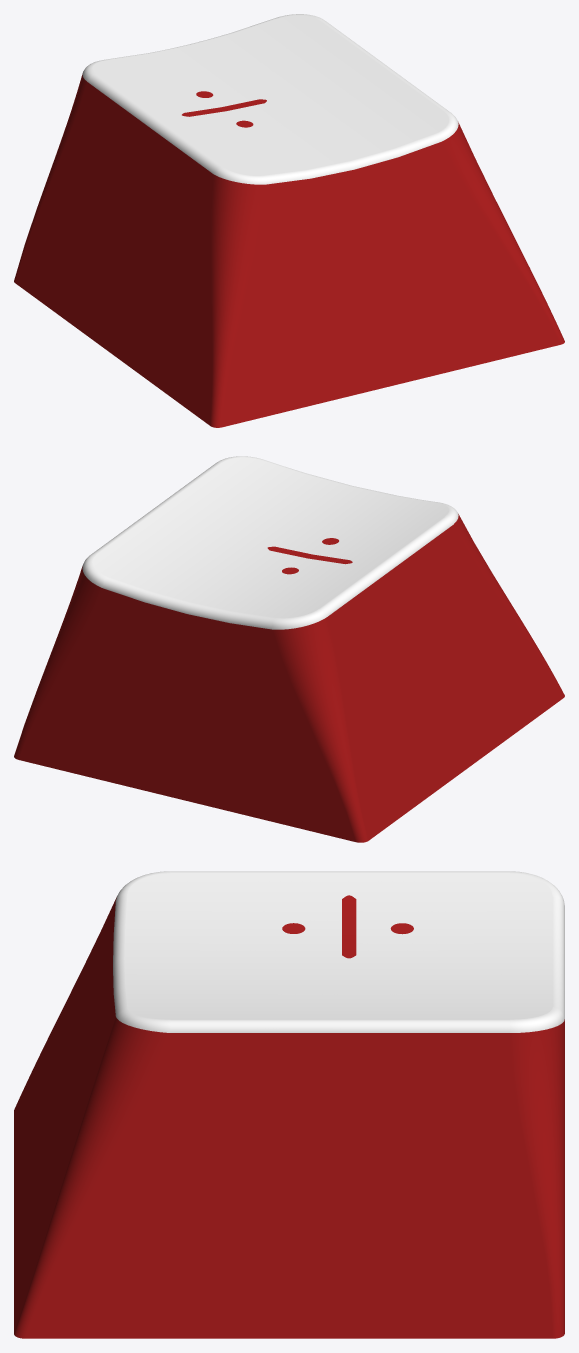
File: NUM Divide Icon.fbx
The picture shows the model from 3 angles, top to bottom: view 1: azimuth 30°, elevation 25°; view 2: azimuth 150°, elevation 25°; view 3: azimuth 270°, elevation 25°; orthographic projection. The views are drawn at different scales.
Visible parts, largest first — view 1: Body1; view 2: Body1; view 3: Body1.
Part boxes in pixels (x1,y1,x2,y2): Body1: (14, 14, 564, 427); Body1: (14, 456, 564, 842); Body1: (14, 871, 564, 1338).
Size of the model in its own units: 18 by 9.95 by 18.
